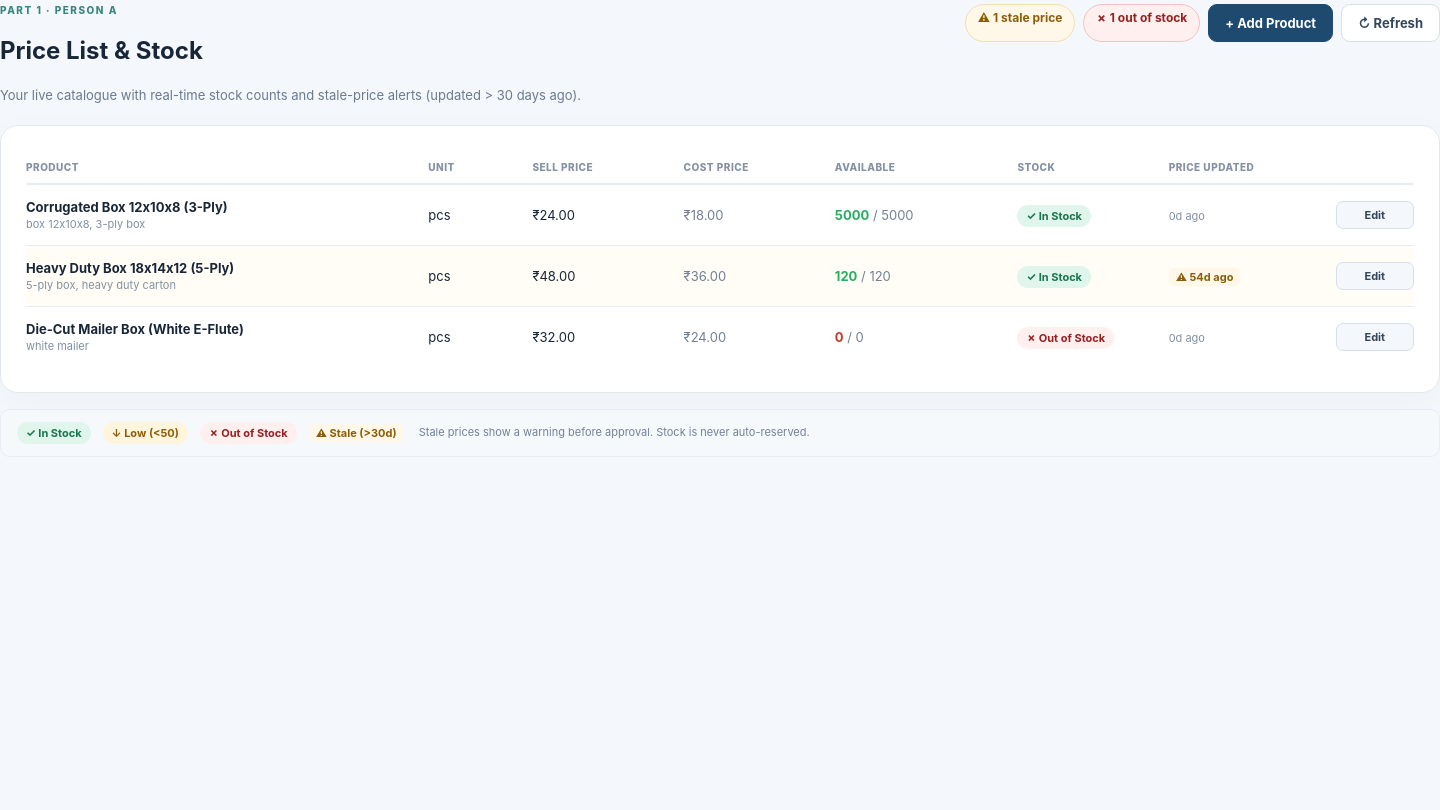
Test case: PriceListPage › opens edit modal when Edit button is clicked
The image size is (1440, 810).
Expected: the text "Corrugated Box 12x10x8 (3-Ply)" is shown, x1=26 y1=199 x2=228 y2=215
Click the button "Edit" in the row of "₹18.00" at (1375, 215), box x1=1336 y1=201 x2=1414 y2=229
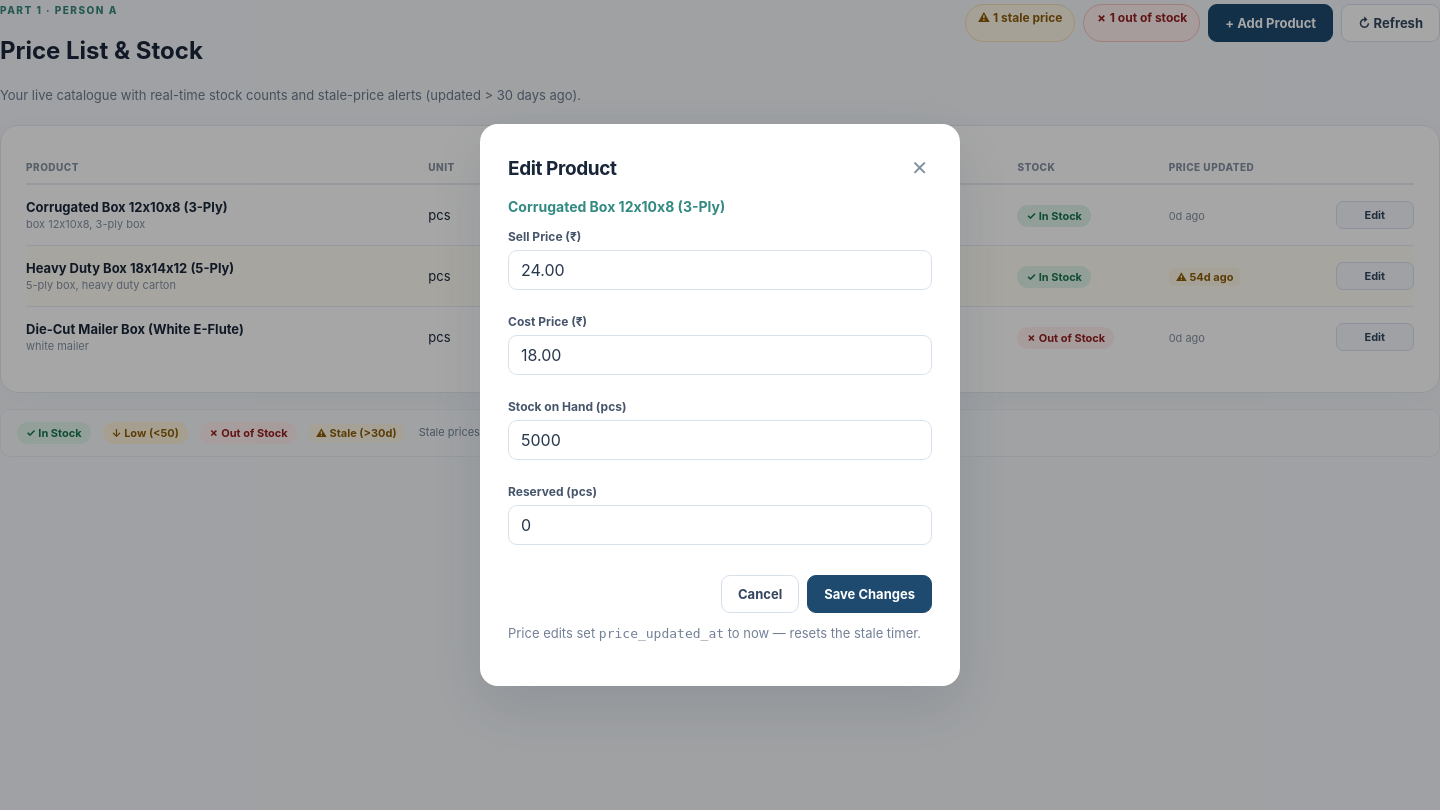
Expected: the heading "Edit Product" is shown, x1=508 y1=157 x2=616 y2=180
Expected: the button "Save Changes" is shown, x1=807 y1=575 x2=932 y2=613
